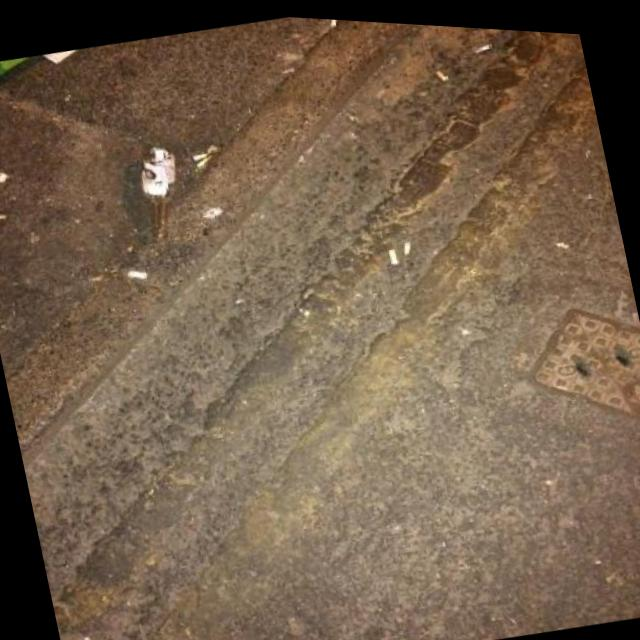glass: (131, 140, 192, 242)
